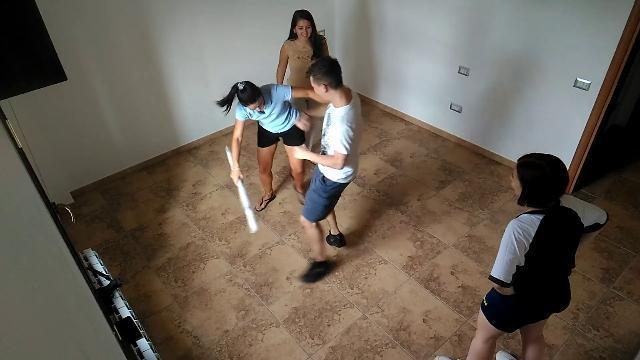non-violence: (452, 154, 608, 360), (275, 8, 343, 144)
violence: (218, 55, 366, 285)
